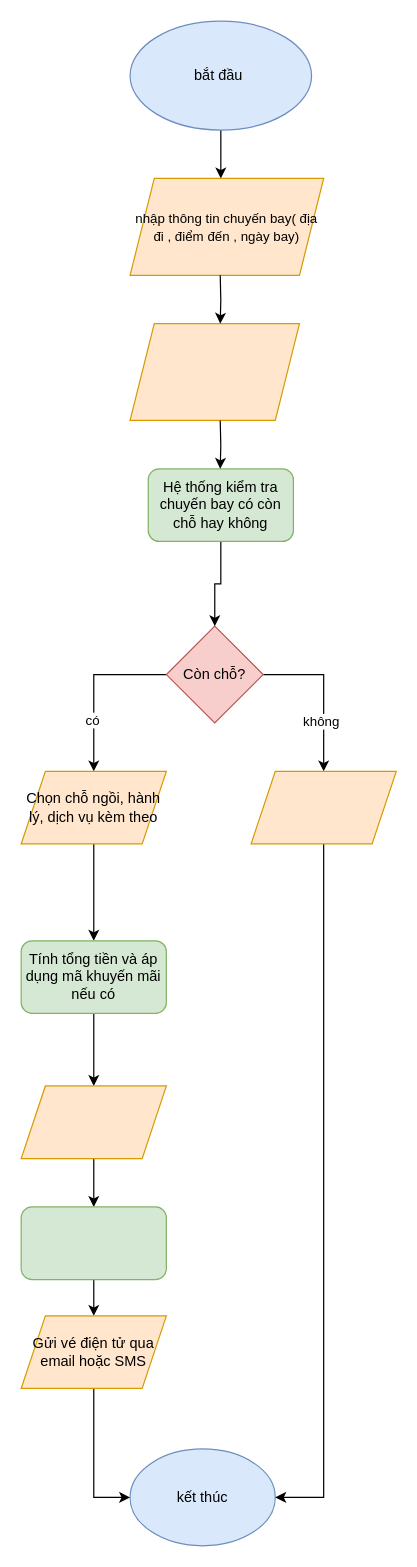
This 417x1567 diagram has some shape labels left out. Each missing label, with the centre of its shape:
"Hiển thị thông báo hết chỗ" goes at (x=323, y=807).
"Hệ thống lưu thông tin đặt vé vào cơ sở dữ liệu" goes at (x=93, y=1243).
"nhập thông tin , cá nhân , khách hàng ( họ tên, điện thoại , email,...)" goes at (x=214, y=371).
"Thanh toán (chọn hình thức: thẻ ngân hàng, ví điện tử...)" goes at (x=93, y=1122).
